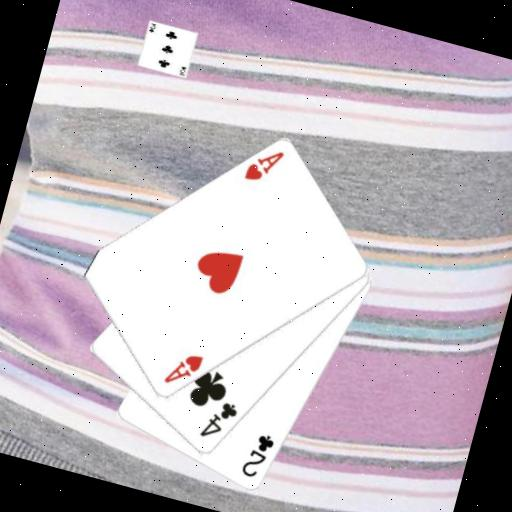2C: (237, 427, 278, 483)
4C: (195, 394, 241, 446)
AH: (159, 344, 206, 393), (240, 141, 287, 190)
